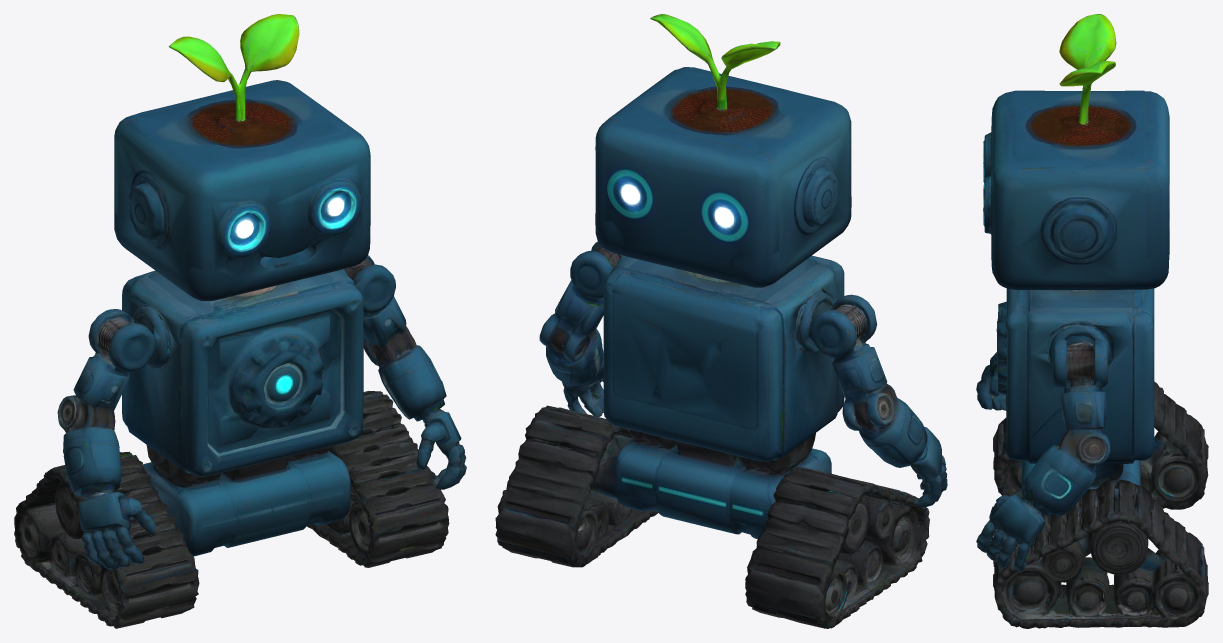
Rendered from robot-3d.glb.
3 views of the same model, side by side, from view 1: azimuth 30°, elevation 25°; view 2: azimuth 150°, elevation 25°; view 3: azimuth 270°, elevation 25° (orthographic). The views are drawn at different scales.
Parts seen in each view (by area): view 1: Mesh_0; view 2: Mesh_0; view 3: Mesh_0.
Part boxes in pixels (x1,y1,x2,y2): Mesh_0: (14,14,466,628); Mesh_0: (495,14,947,628); Mesh_0: (976,14,1208,628).
Size of the model in its own units: 1.42 by 1.91 by 0.7864.
1 material, 1 textured.
